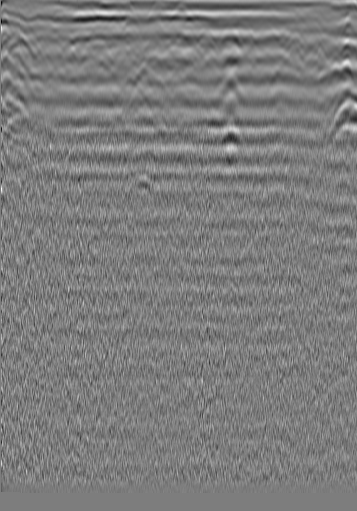가스: (128, 143, 165, 174)
상수: (307, 39, 327, 59)
오수: (34, 44, 54, 64)
우수: (166, 28, 186, 48)
